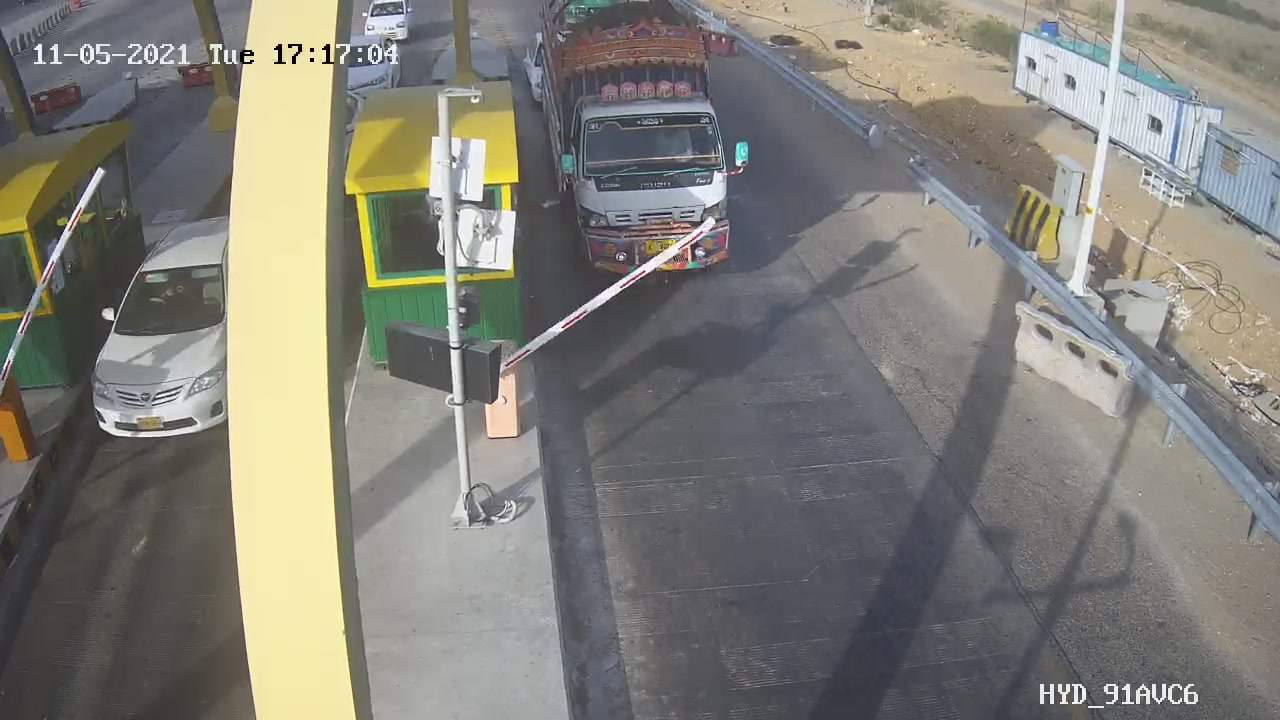F5: (526, 1, 759, 290)
